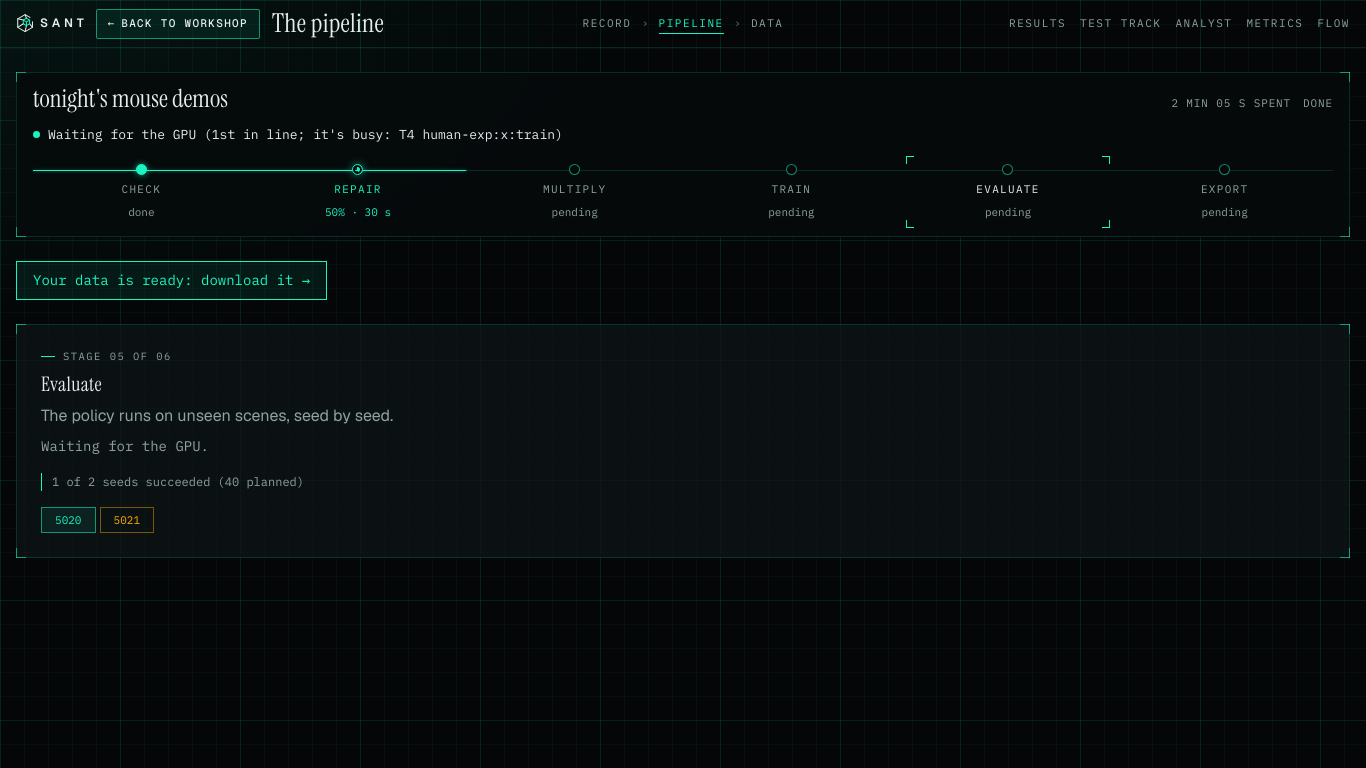
Test: the pipeline pages › at the end: the downloads come from the run's artifact list, and every stage points to them
Step 1. Click the link "Your data is ready: download it →" → (172, 280), box [16,261,327,300]
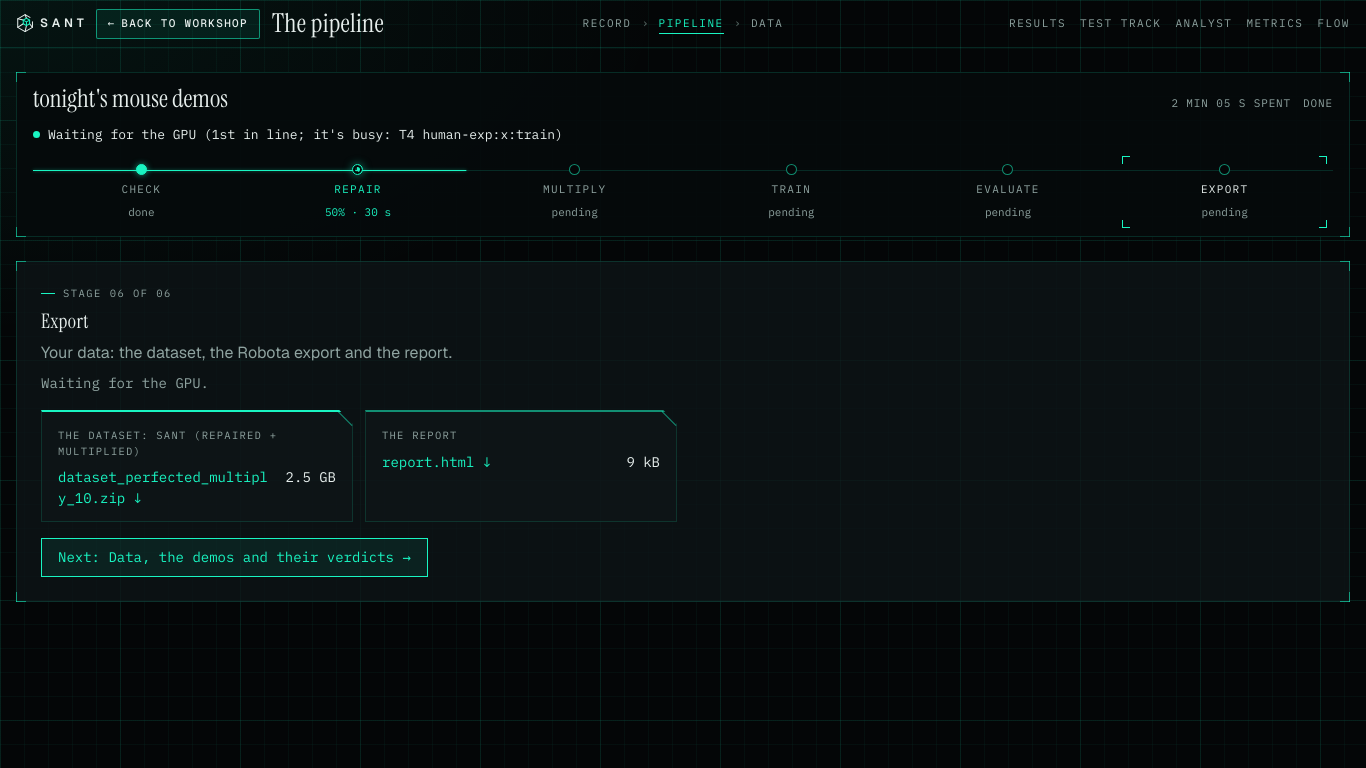
Now the link "dataset_perfected_multiply_10.zip" is shown, box [58,467,274,509]
Now the text "2.5 GB" is shown, box [286,468,336,486]
Now the text "The dataset: SANT (repaired + multiplied)" is shown, box [58,428,277,458]
